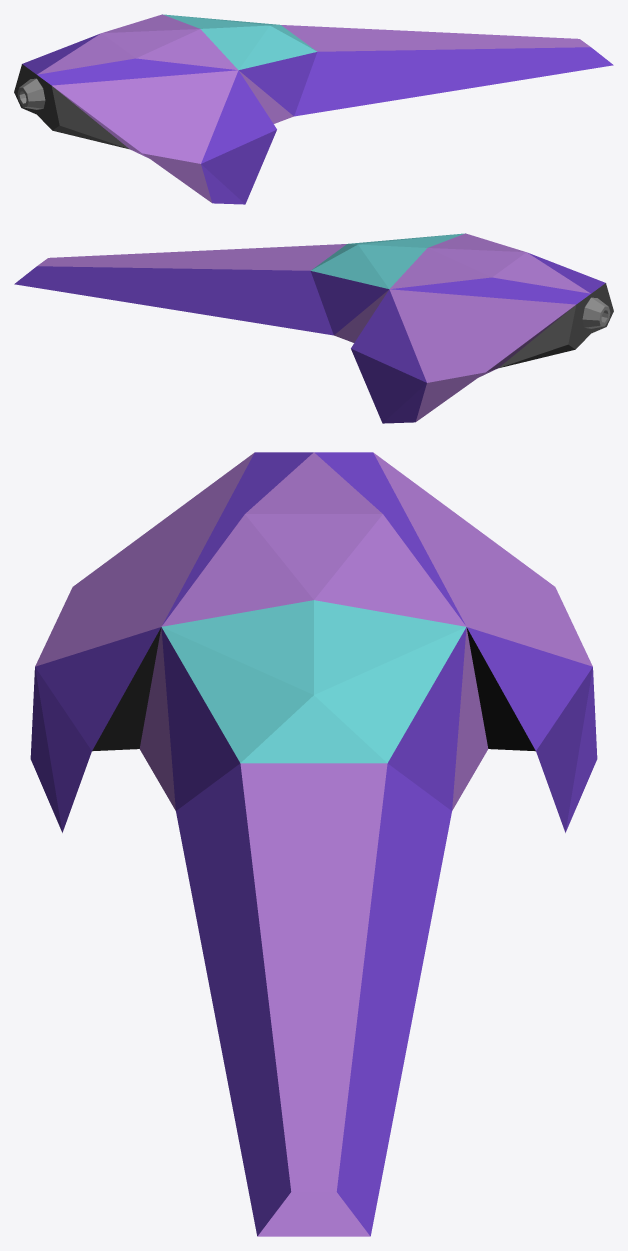
Rendered from ship4.fbx.
The picture shows the model from 3 angles, top to bottom: view 1: azimuth 30°, elevation 25°; view 2: azimuth 150°, elevation 25°; view 3: azimuth 270°, elevation 25°; orthographic projection. The views are drawn at different scales.
Visible parts, largest first — view 1: Cube; view 2: Cube; view 3: Cube.
Boxes of the visible parts, x1=… form: Cube: x1=14, y1=14, x2=613, y2=204; Cube: x1=14, y1=233, x2=613, y2=423; Cube: x1=30, y1=452, x2=597, y2=1236.
Size of the model in its own units: 745 by 158 by 317.
